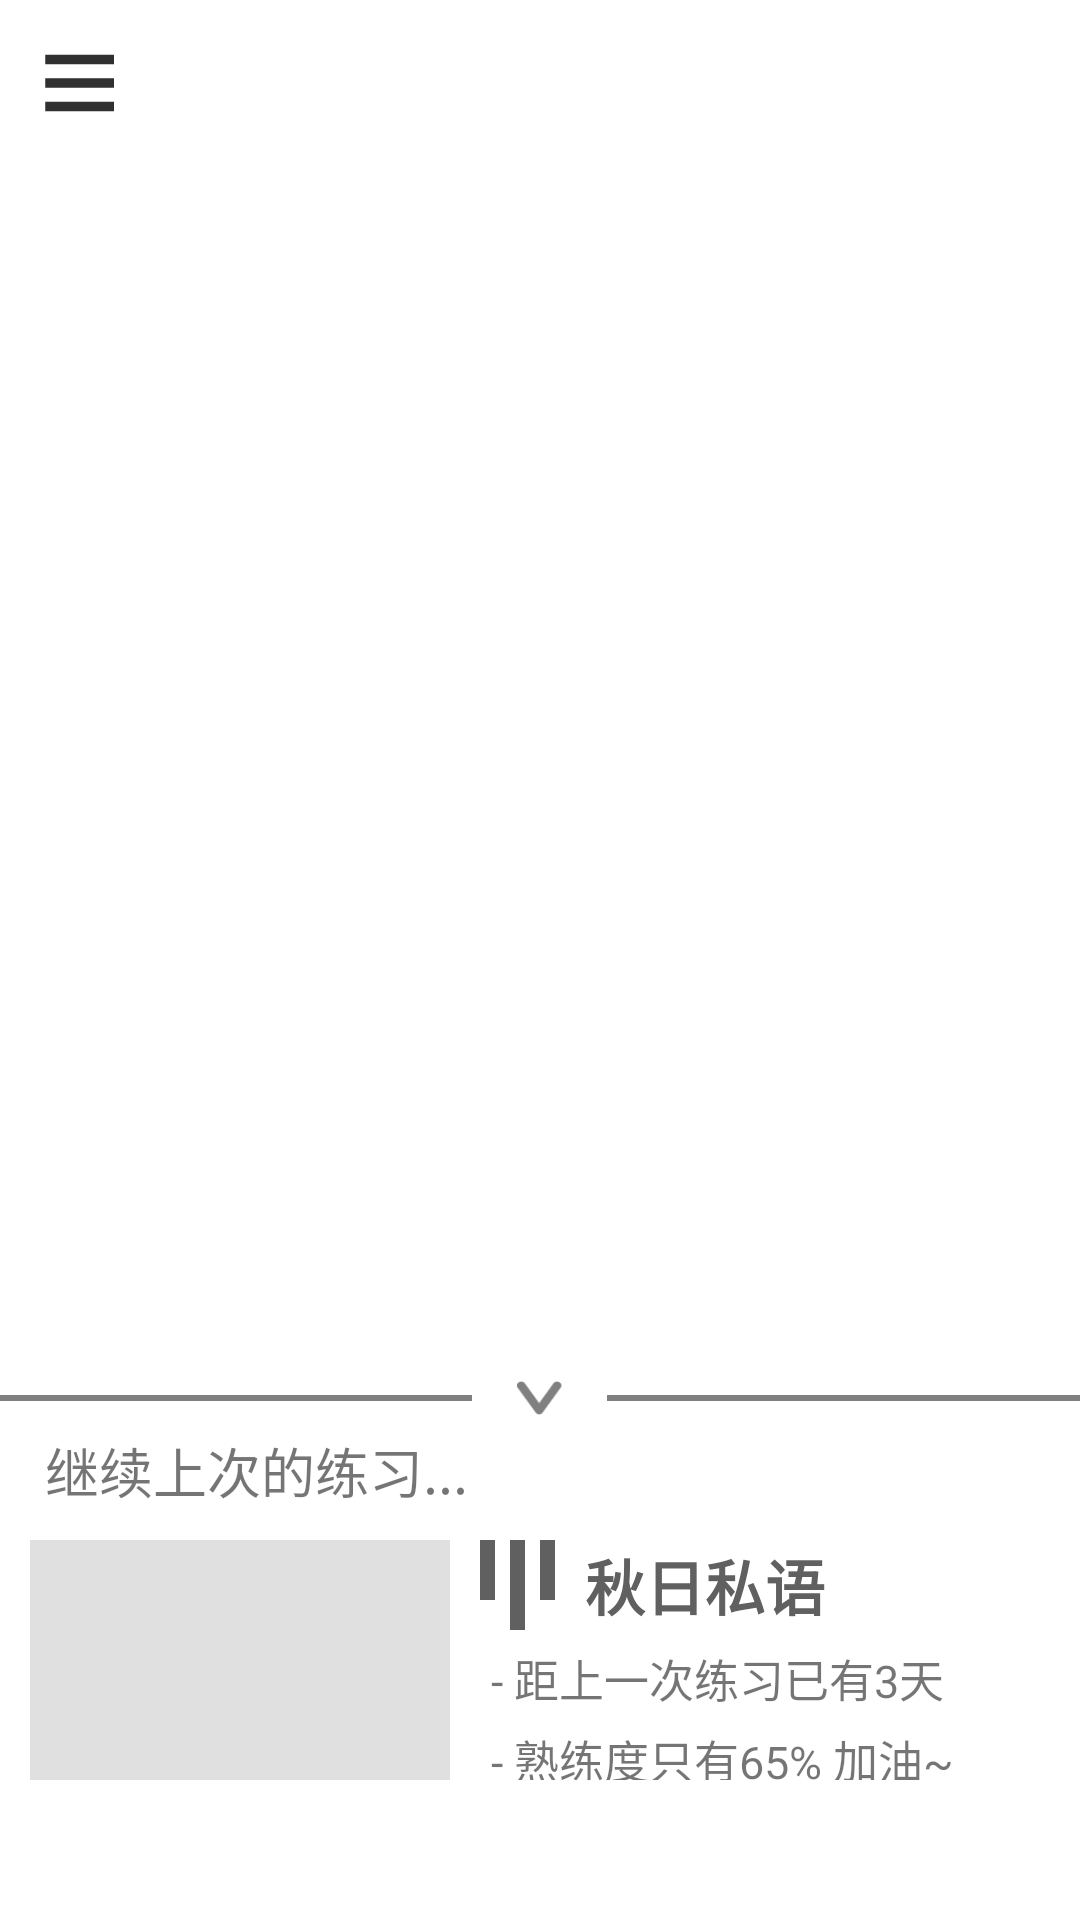

Named icons in this screenshot (1080 × 1920) and their centers, point (x, y):
down arrow: point (539, 1398)
menu: point (79, 83)
